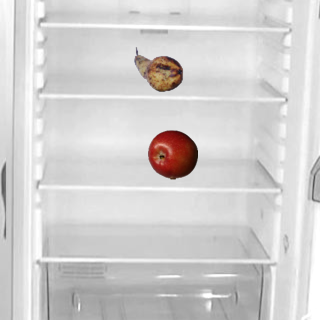Apple Braeburn: (147, 129, 197, 179)
Pear Abate: (133, 44, 183, 94)
